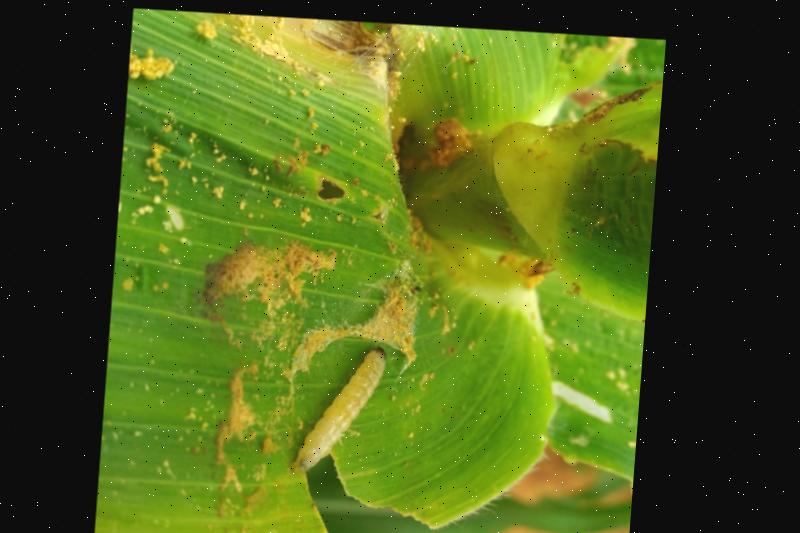fall-armyworm: (297, 342, 392, 468)
